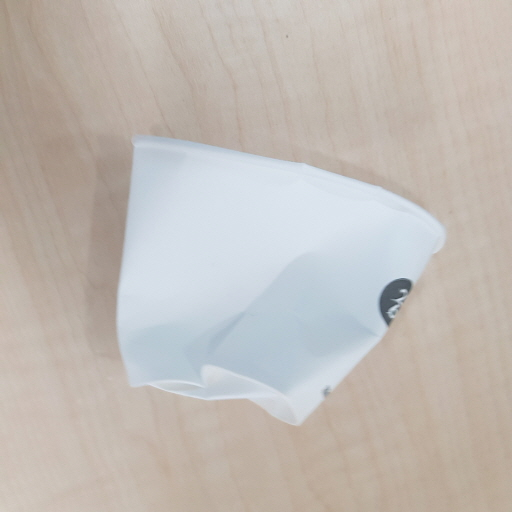Paper_1: (113, 129, 451, 425)
